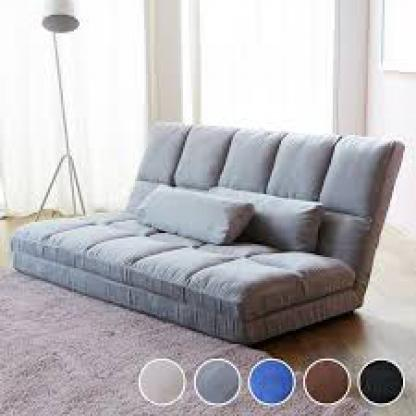sofa: (22, 116, 385, 331)
